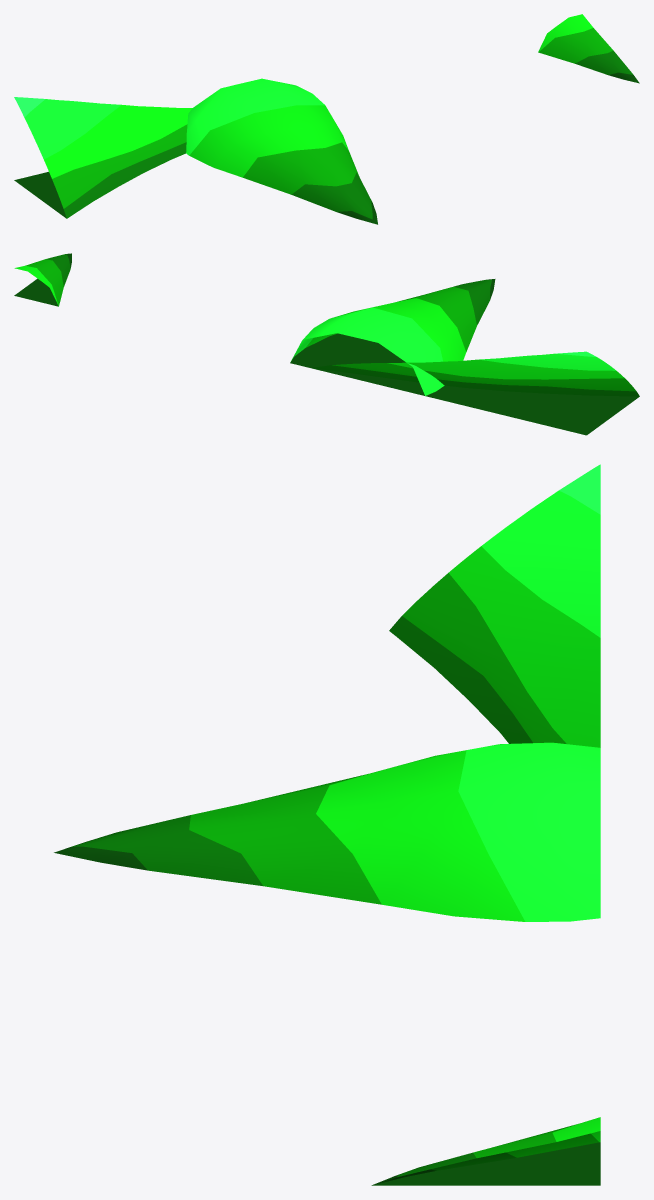
Rendered from shot_charge_b287.glb.
The picture shows the model from 3 angles, top to bottom: view 1: azimuth 30°, elevation 25°; view 2: azimuth 150°, elevation 25°; view 3: azimuth 270°, elevation 25°; orthographic projection. The views are drawn at different scales.
Parts seen in each view (by area): view 1: charge_great_drip1_shot_charge_b287, charge_great_wave_shot_charge_b287, charge_great_drip0_shot_charge_b287; view 2: charge_great_wave_shot_charge_b287, charge_great_drip1_shot_charge_b287, charge_great_drip0_shot_charge_b287; view 3: charge_great_drip1_shot_charge_b287, charge_great_wave_shot_charge_b287, charge_great_drip0_shot_charge_b287.
Part boxes in pixels (bbox=[...]): charge_great_drip1_shot_charge_b287: bbox=[186, 78, 377, 224]; charge_great_wave_shot_charge_b287: bbox=[14, 97, 192, 218]; charge_great_drip0_shot_charge_b287: bbox=[538, 14, 639, 83]; charge_great_wave_shot_charge_b287: bbox=[311, 351, 639, 435]; charge_great_drip1_shot_charge_b287: bbox=[290, 279, 495, 395]; charge_great_drip0_shot_charge_b287: bbox=[14, 253, 71, 306]; charge_great_drip1_shot_charge_b287: bbox=[54, 742, 600, 921]; charge_great_wave_shot_charge_b287: bbox=[389, 464, 600, 747]; charge_great_drip0_shot_charge_b287: bbox=[371, 1117, 600, 1185].
Size of the model in its own units: 12 by 1.68 by 5.
